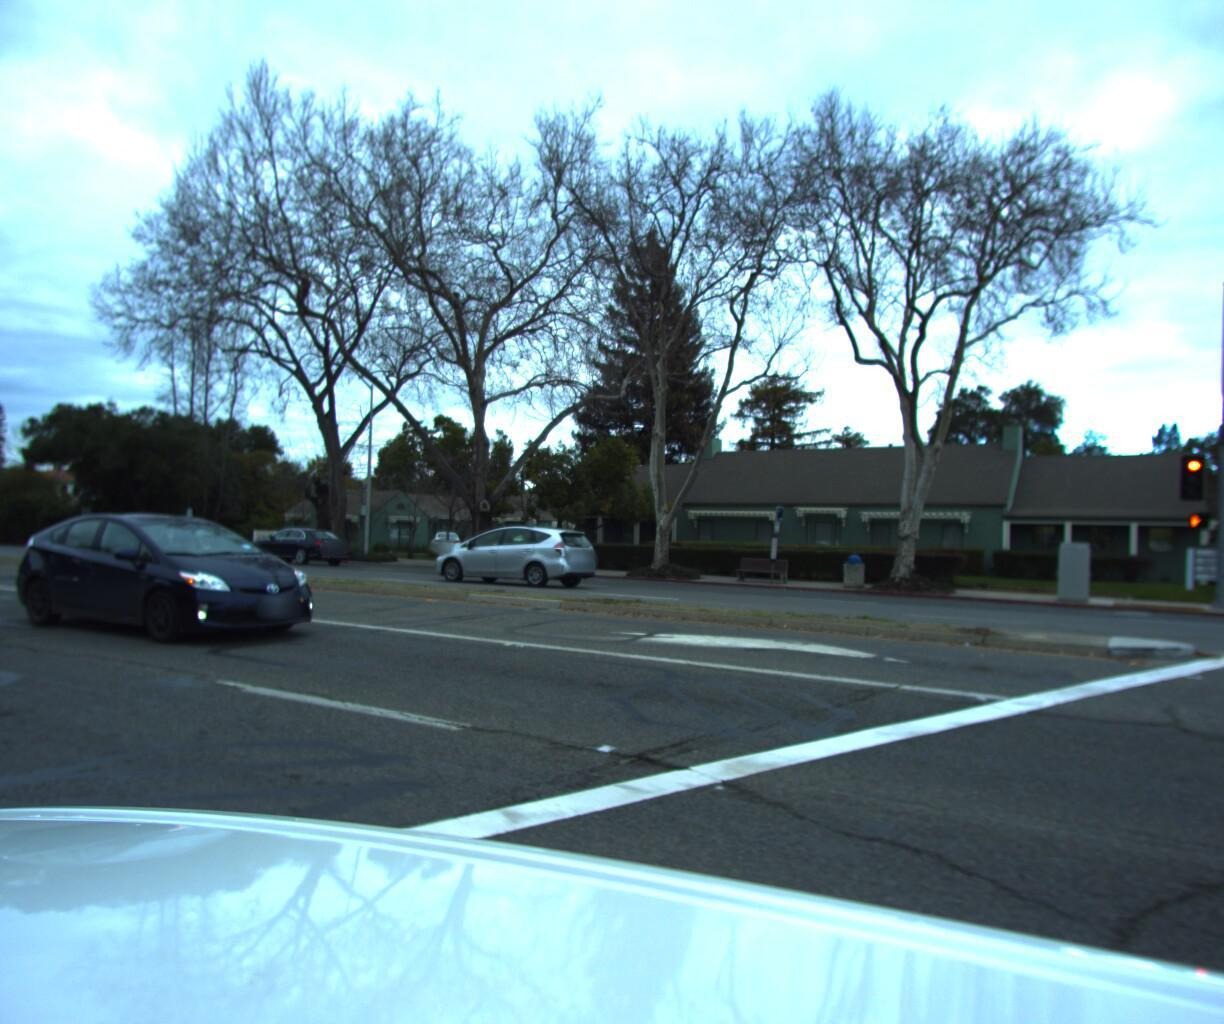car: (13, 513, 324, 660), (425, 518, 602, 586), (236, 519, 356, 563)
